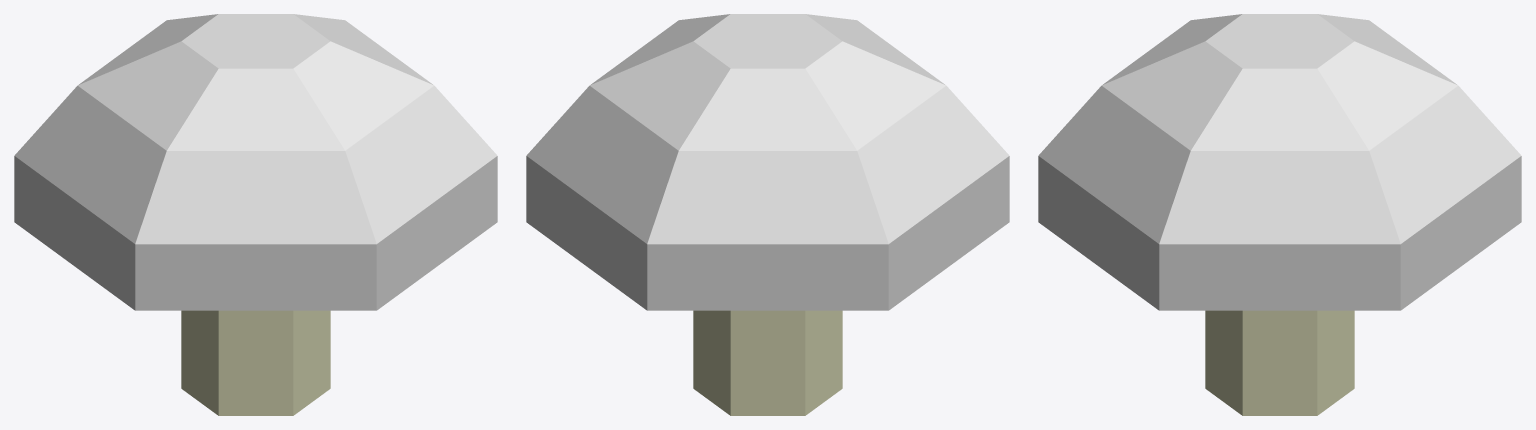
The model's file is Grzyb.fbx.
The picture shows the model from 3 angles, left to right: view 1: azimuth 30°, elevation 25°; view 2: azimuth 150°, elevation 25°; view 3: azimuth 270°, elevation 25°; orthographic projection.
Visible parts, largest first — view 1: Grzyb; view 2: Grzyb; view 3: Grzyb.
Boxes of the visible parts, x1,y1,x2,y2 form: Grzyb: [14, 14, 497, 415]; Grzyb: [526, 14, 1009, 415]; Grzyb: [1038, 14, 1521, 415].
Size of the model in its own units: 32.47 by 29.73 by 37.49.
